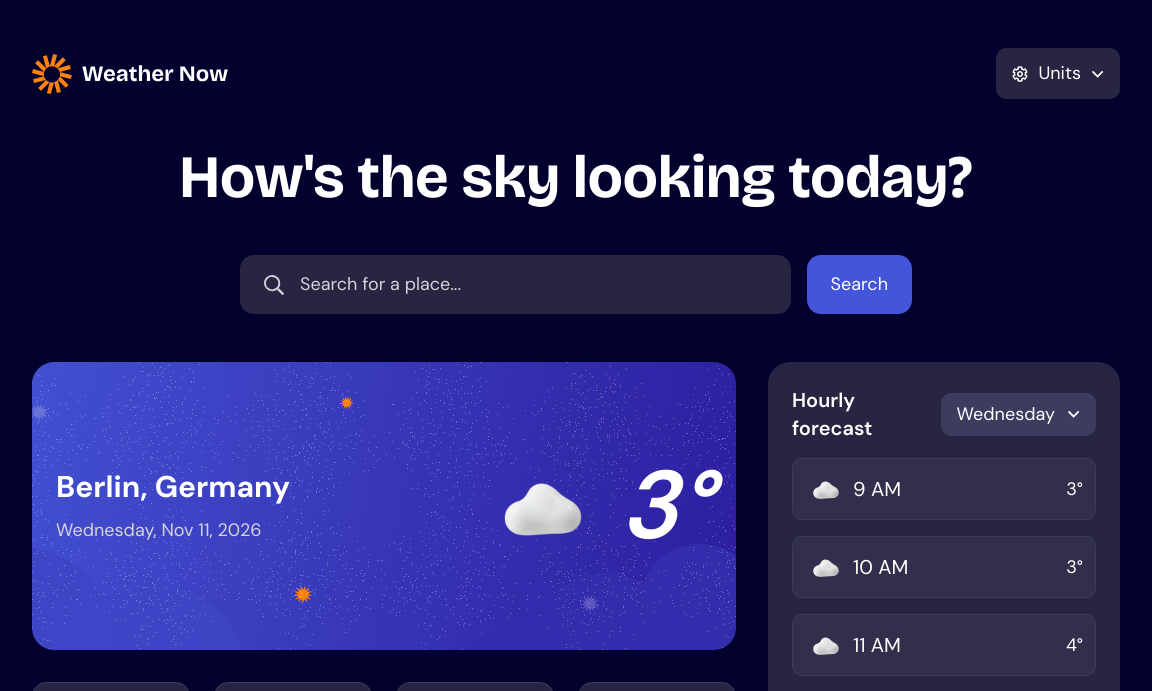
Test: 다른 요일 선택 › Thursday를 고르면 요일 선택기가 Thursday를 가리킨다
This screenshot has width=1152, height=691.
Expected: the text "Berlin, Germany" is shown, left=56, top=468, right=290, bottom=504
What coordinates should you click on to do the following:
click the button "Wednesday"
I would click on:
 (1018, 414)
Its box is left=941, top=392, right=1096, bottom=436.
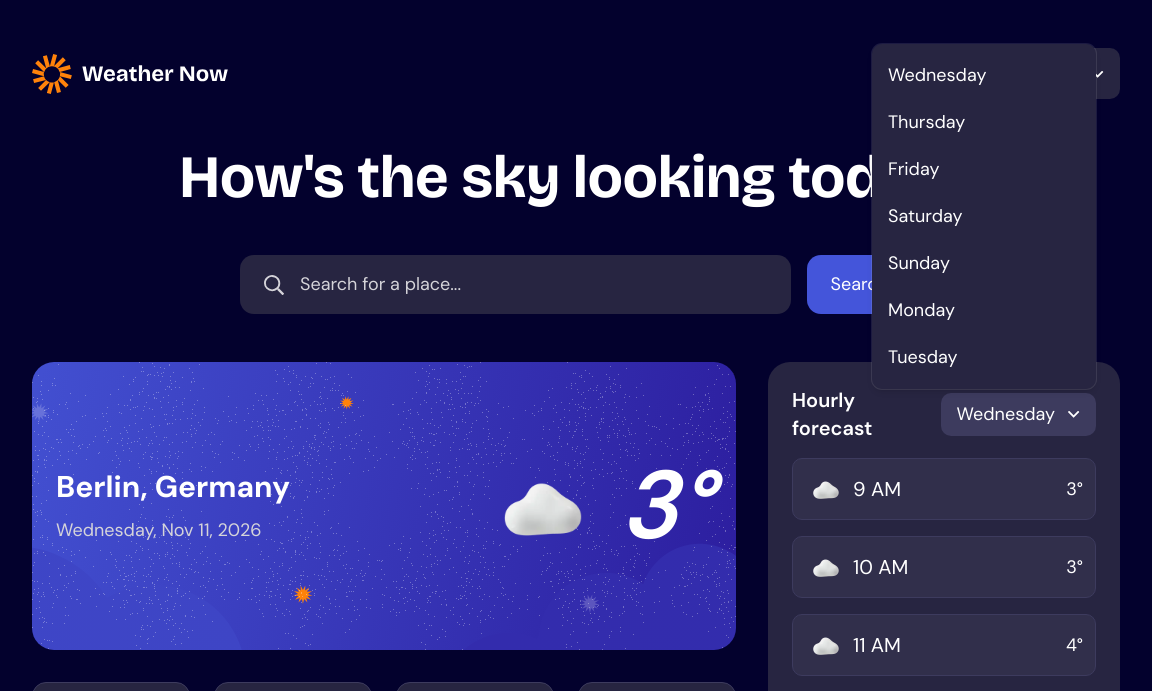
Expected: the menu item "Thursday" is shown
What coordinates should you click on to do the following:
click the menu item "Thursday"
I would click on:
 (927, 122)
Its box is left=888, top=110, right=965, bottom=134.
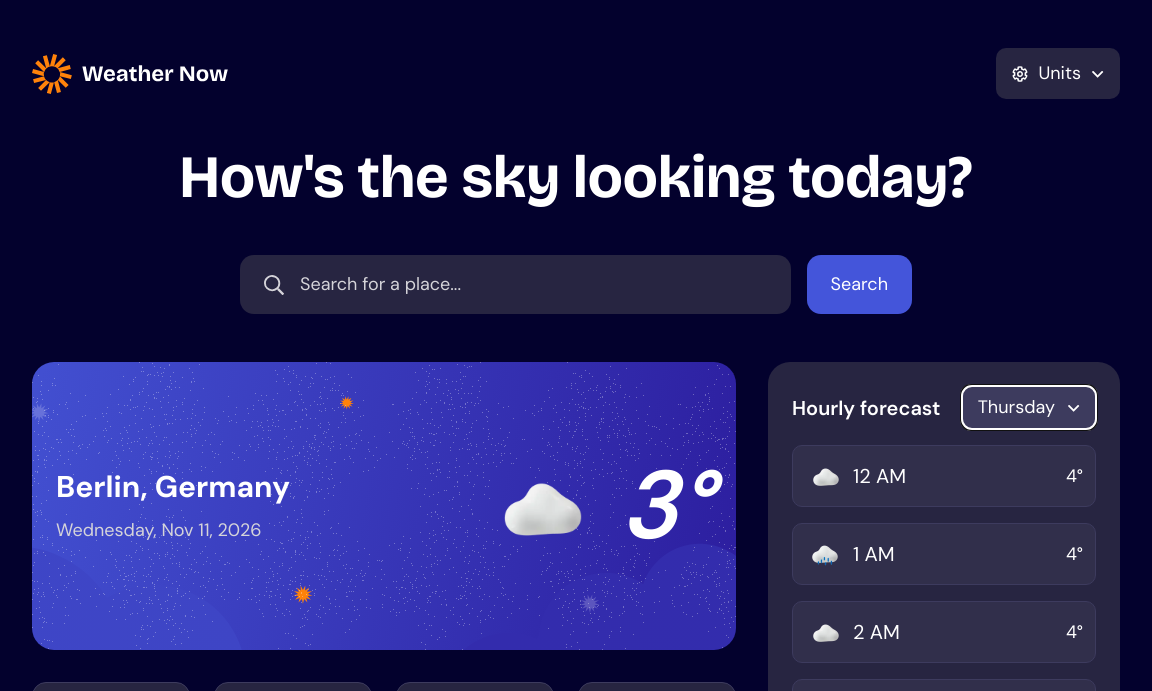
Expected: the button "Thursday" is shown, left=962, top=386, right=1096, bottom=429
